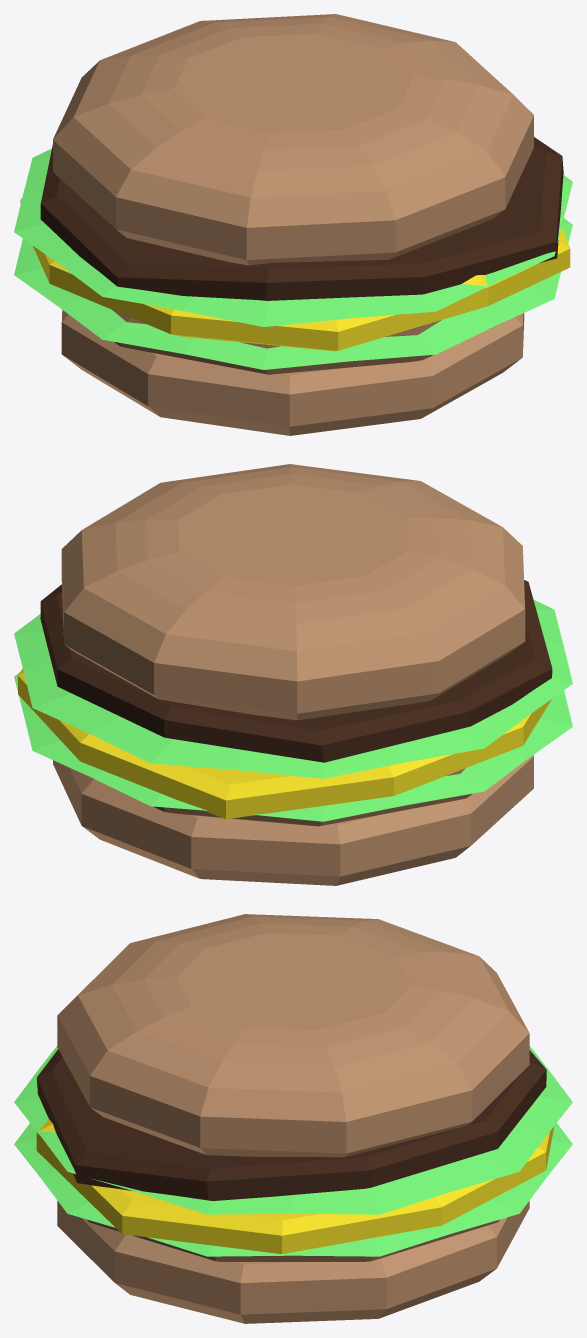
File: burger.fbx
3 views of the same model, one above another, from view 1: azimuth 30°, elevation 25°; view 2: azimuth 150°, elevation 25°; view 3: azimuth 270°, elevation 25° (orthographic). The views are drawn at different scales.
Parts seen in each view (by area): view 1: Cylinder.009; view 2: Cylinder.009; view 3: Cylinder.009.
Part boxes in pixels (x1,y1,x2,y2): Cylinder.009: (14,14,572,435); Cylinder.009: (14,464,572,885); Cylinder.009: (14,914,572,1323).
Size of the model in its own units: 35.31 by 18.26 by 36.53.
